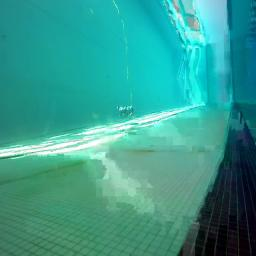front: (117, 105, 133, 118)
